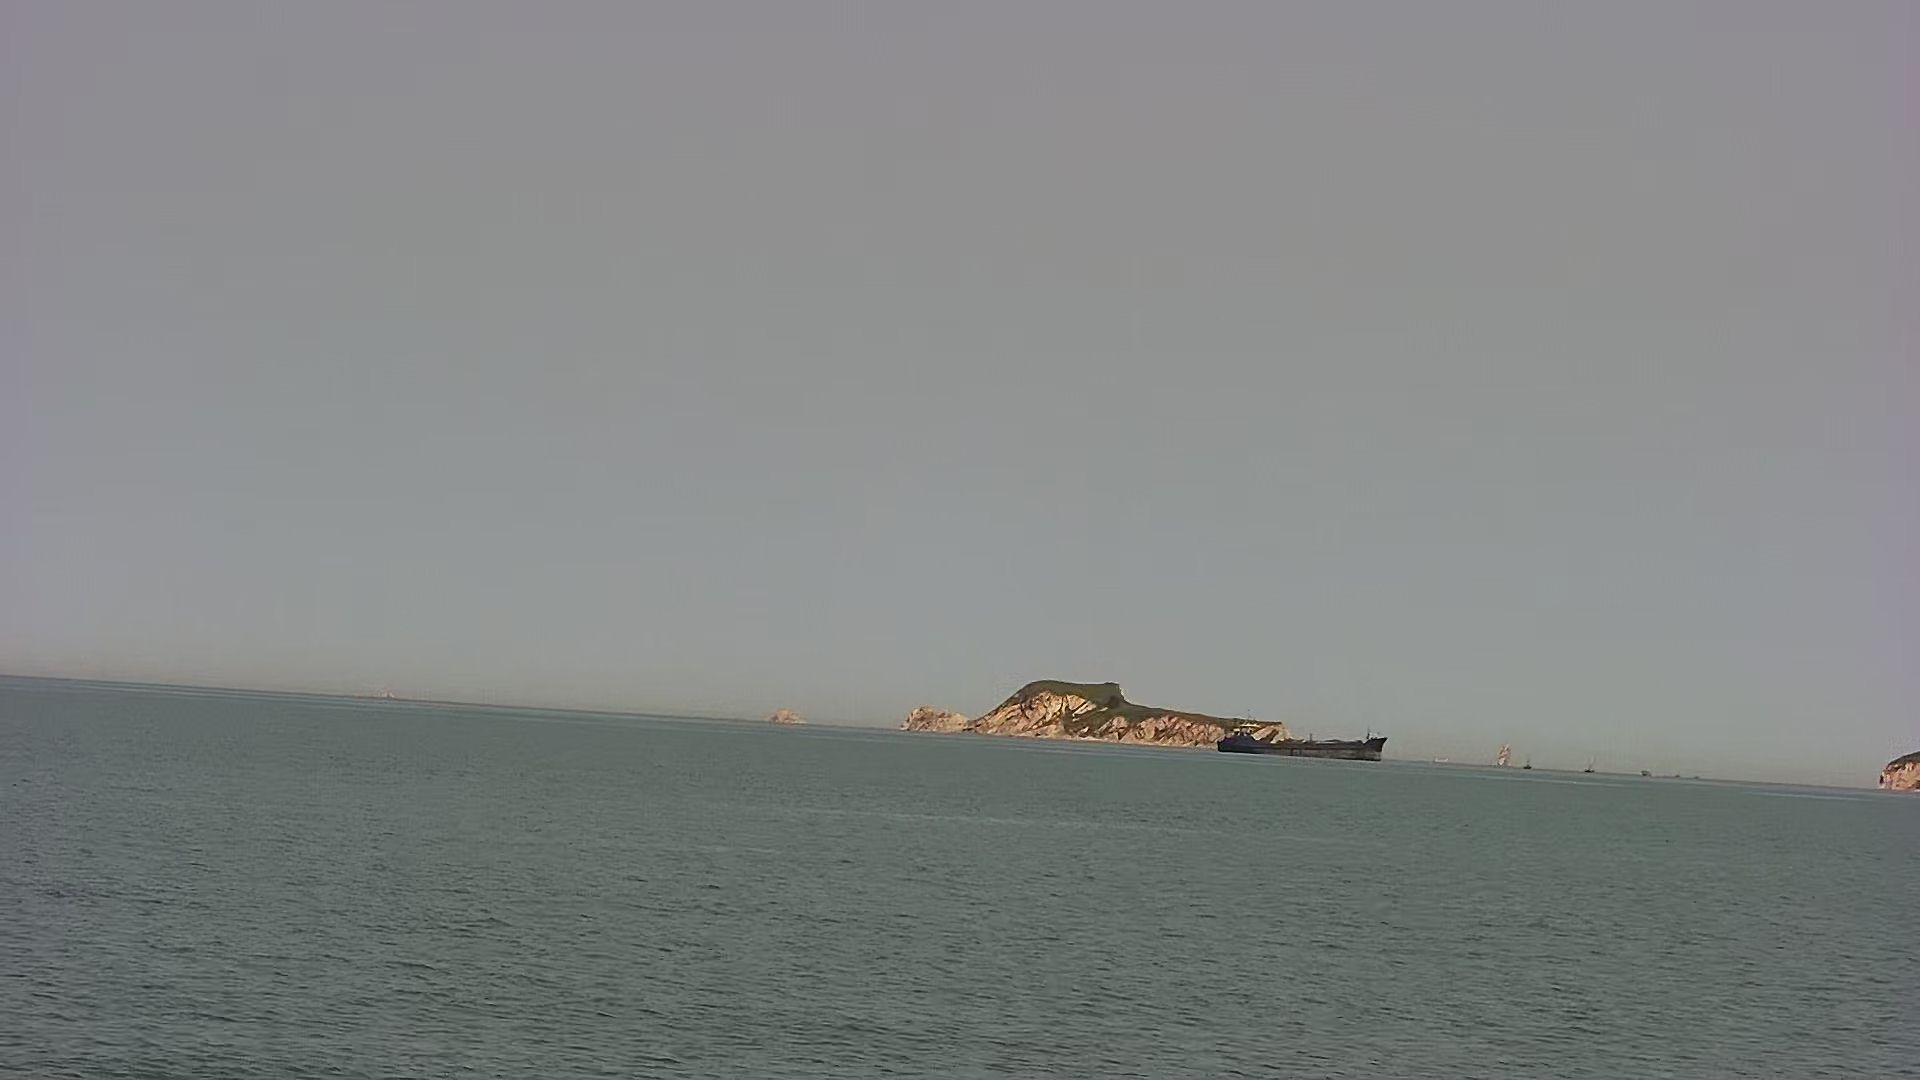rock: (895, 678, 1288, 752), (1875, 750, 1920, 798)
ship: (1218, 727, 1389, 764)
